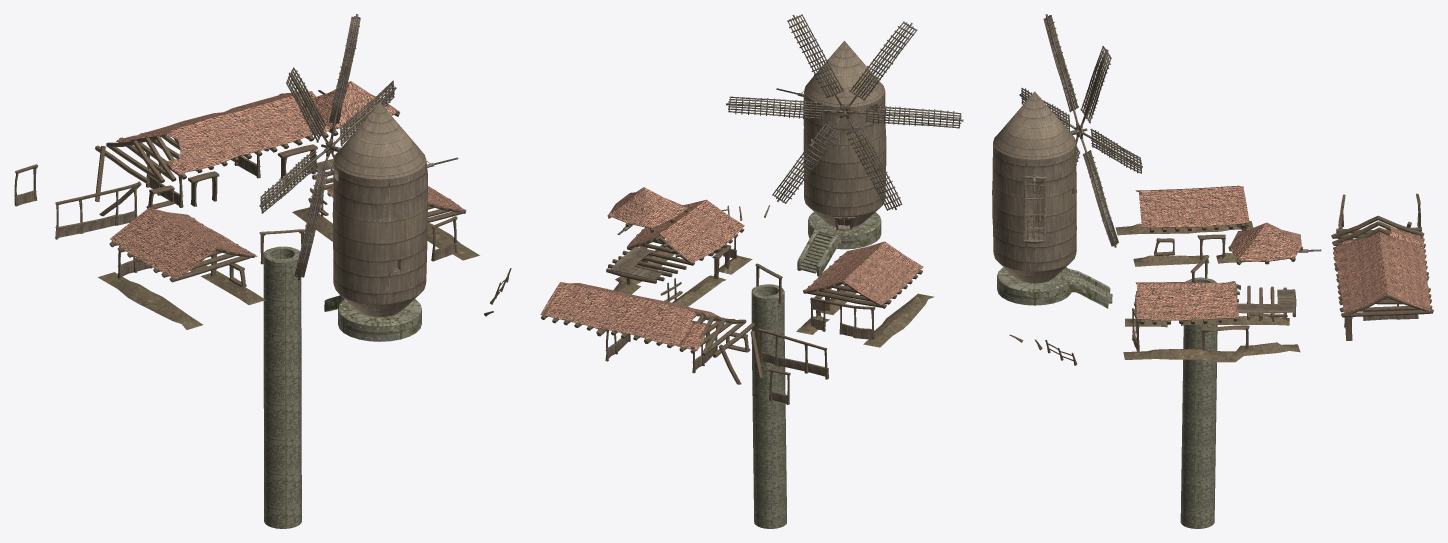
File: SM_PigFarm_00_Lightmaps.fbx
3 renders of one model, left to right at view 1: azimuth 30°, elevation 25°; view 2: azimuth 150°, elevation 25°; view 3: azimuth 270°, elevation 25°, orthographic. The views are drawn at different scales.
Parts seen in each view (by area): view 1: SM_PigFarm_00_00.005, SM_PigFarm_00_Lightmaps.001, SM_PigFarm_00_00.006, SM_PigFarm_00_00.010, SM_PigFarm_00_00.004, SM_PigFarm_00_00.008, SM_PigFarm_00_00.011, SM_PigFarm_00_00.003; view 2: SM_PigFarm_00_Lightmaps.001, SM_PigFarm_00_00.005, SM_PigFarm_00_00.006, SM_PigFarm_00_00.004, SM_PigFarm_00_00.010, SM_PigFarm_00_00.003, SM_PigFarm_00_00.008, SM_PigFarm_00_00.011; view 3: SM_PigFarm_00_Lightmaps.001, SM_PigFarm_00_00.005, SM_PigFarm_00_00.006, SM_PigFarm_00_00.004, SM_PigFarm_00_00.008, SM_PigFarm_00_00.010, SM_PigFarm_00_00.003, SM_PigFarm_00_00.011.
Boxes of the visible parts, left/top/right/bottom form: SM_PigFarm_00_00.005: left=332, top=103, right=427, bottom=317; SM_PigFarm_00_Lightmaps.001: left=110, top=81, right=465, bottom=279; SM_PigFarm_00_00.006: left=263, top=246, right=421, bottom=528; SM_PigFarm_00_00.010: left=14, top=93, right=338, bottom=239; SM_PigFarm_00_00.004: left=259, top=14, right=458, bottom=280; SM_PigFarm_00_00.008: left=98, top=207, right=479, bottom=329; SM_PigFarm_00_00.011: left=109, top=217, right=304, bottom=287; SM_PigFarm_00_00.003: left=305, top=104, right=511, bottom=316; SM_PigFarm_00_Lightmaps.001: left=540, top=187, right=923, bottom=350; SM_PigFarm_00_00.005: left=803, top=40, right=886, bottom=230; SM_PigFarm_00_00.006: left=751, top=212, right=881, bottom=528; SM_PigFarm_00_00.004: left=617, top=14, right=963, bottom=234; SM_PigFarm_00_00.010: left=541, top=295, right=828, bottom=404; SM_PigFarm_00_00.003: left=606, top=193, right=769, bottom=301; SM_PigFarm_00_00.008: left=613, top=244, right=934, bottom=347; SM_PigFarm_00_00.011: left=755, top=256, right=922, bottom=339; SM_PigFarm_00_Lightmaps.001: left=1135, top=185, right=1430, bottom=320; SM_PigFarm_00_00.005: left=992, top=91, right=1076, bottom=283; SM_PigFarm_00_00.006: left=997, top=267, right=1217, bottom=528; SM_PigFarm_00_00.004: left=1019, top=14, right=1321, bottom=252; SM_PigFarm_00_00.008: left=1115, top=221, right=1300, bottom=362; SM_PigFarm_00_00.010: left=1331, top=193, right=1433, bottom=340; SM_PigFarm_00_00.003: left=1009, top=223, right=1302, bottom=365; SM_PigFarm_00_00.011: left=1149, top=223, right=1248, bottom=282.
Bounding box in the file's own units: 4350 × 7126 × 5904.
